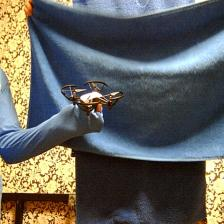drone: (62, 78, 124, 116)
